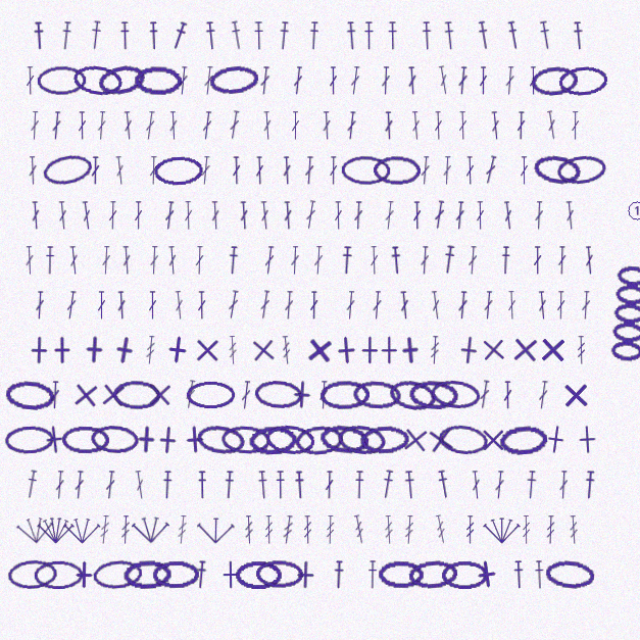chain: (47, 159, 99, 196), (101, 71, 152, 108), (386, 380, 437, 416), (77, 72, 129, 107), (528, 160, 578, 195), (198, 425, 249, 459), (551, 161, 602, 194), (266, 425, 317, 458), (435, 425, 486, 458), (211, 73, 261, 106), (428, 381, 478, 414), (319, 425, 369, 458), (336, 425, 386, 458), (553, 74, 604, 106), (11, 382, 61, 414), (295, 426, 345, 458), (97, 558, 147, 590), (406, 558, 456, 590), (540, 558, 590, 590), (526, 74, 575, 106), (495, 426, 544, 458), (255, 382, 304, 413), (407, 382, 456, 413), (14, 558, 63, 589), (157, 163, 207, 193), (11, 427, 61, 457), (95, 426, 143, 457), (352, 383, 401, 413), (223, 427, 272, 457), (359, 427, 408, 457), (250, 427, 298, 457), (43, 75, 92, 104), (341, 163, 390, 192), (320, 383, 369, 412), (127, 559, 175, 588), (257, 559, 305, 588), (189, 384, 238, 412), (40, 560, 89, 588), (138, 75, 185, 104), (372, 163, 419, 192), (117, 383, 164, 412), (67, 428, 115, 456), (156, 560, 203, 588), (237, 560, 284, 588), (439, 560, 486, 588), (377, 560, 423, 588)
double: (480, 163, 495, 192), (435, 75, 448, 104), (230, 119, 243, 148), (541, 119, 554, 148), (305, 207, 318, 236), (431, 207, 444, 236), (229, 295, 242, 324), (260, 295, 273, 324), (187, 383, 200, 412), (475, 383, 488, 412), (293, 76, 305, 104), (349, 76, 361, 104), (148, 120, 160, 148), (204, 120, 216, 148), (86, 208, 98, 236), (167, 208, 179, 236), (499, 208, 511, 236), (265, 252, 277, 280), (71, 296, 83, 324), (428, 296, 440, 324), (242, 384, 254, 412), (533, 384, 545, 412), (109, 472, 121, 500), (138, 472, 150, 500), (181, 76, 192, 104), (206, 76, 217, 104), (261, 76, 272, 104), (455, 76, 466, 104), (501, 76, 512, 104), (57, 120, 68, 148), (101, 120, 112, 148), (127, 120, 138, 148), (346, 120, 357, 148), (409, 120, 420, 148), (487, 120, 498, 148), (119, 164, 130, 192), (203, 164, 214, 192), (418, 164, 429, 192), (63, 208, 74, 236), (261, 208, 272, 236), (383, 208, 394, 236), (452, 208, 463, 236), (560, 208, 571, 236), (74, 252, 85, 280), (579, 252, 590, 280), (177, 296, 188, 324), (345, 296, 356, 324), (371, 296, 382, 324), (398, 296, 409, 324), (455, 296, 466, 324), (480, 296, 491, 324), (533, 296, 544, 324), (60, 472, 71, 500), (79, 472, 90, 500), (468, 472, 479, 500), (491, 472, 502, 500), (380, 76, 390, 104), (406, 76, 416, 104), (36, 120, 46, 148), (172, 120, 182, 148), (264, 120, 274, 148), (322, 120, 332, 148), (383, 120, 393, 148), (34, 164, 44, 192), (283, 164, 293, 192), (305, 164, 315, 192), (440, 164, 450, 192), (37, 208, 47, 236), (213, 208, 223, 236), (241, 208, 251, 236), (284, 208, 294, 236), (353, 208, 363, 236), (530, 208, 540, 236), (31, 252, 41, 280), (106, 252, 116, 280), (126, 252, 136, 280), (153, 252, 163, 280), (171, 252, 181, 280), (291, 252, 301, 280), (314, 252, 324, 280), (418, 252, 428, 280), (465, 252, 475, 280), (41, 296, 51, 324), (121, 296, 131, 324), (285, 296, 295, 324), (576, 296, 586, 324), (56, 384, 66, 412), (319, 384, 329, 412), (554, 472, 564, 500), (32, 76, 41, 104), (329, 76, 338, 104), (476, 76, 485, 104), (525, 76, 534, 104), (83, 120, 92, 148), (292, 120, 301, 148), (432, 120, 441, 148), (456, 120, 465, 148), (513, 120, 522, 148), (566, 120, 575, 148), (96, 164, 105, 192), (153, 164, 162, 192), (234, 164, 243, 192), (257, 164, 266, 192), (329, 164, 338, 192), (463, 164, 472, 192), (516, 164, 525, 192), (113, 208, 122, 236), (138, 208, 147, 236), (187, 208, 196, 236), (334, 208, 343, 236), (411, 208, 420, 236), (473, 208, 482, 236), (198, 252, 207, 280), (369, 252, 378, 280), (529, 252, 538, 280), (553, 252, 562, 280), (102, 296, 111, 324), (152, 296, 161, 324), (200, 296, 209, 324), (310, 296, 319, 324), (504, 296, 513, 324), (552, 296, 561, 324), (500, 384, 509, 412), (325, 472, 334, 500)
enseble_chain: (602, 270, 640, 369)
fan: (22, 514, 61, 545), (136, 515, 173, 544), (43, 516, 80, 544), (69, 516, 106, 544), (200, 516, 237, 544), (480, 516, 517, 544)
half_double: (173, 31, 192, 61), (534, 31, 549, 60), (379, 471, 394, 500), (434, 471, 449, 500), (94, 31, 108, 60), (232, 31, 246, 60), (474, 31, 488, 60), (503, 31, 517, 60), (440, 251, 454, 280), (31, 471, 45, 500), (207, 32, 220, 60), (345, 32, 358, 60), (441, 32, 454, 60), (567, 32, 580, 60), (229, 252, 242, 280), (258, 472, 271, 500), (402, 472, 415, 500), (521, 472, 534, 500), (578, 472, 591, 500), (39, 32, 51, 60), (66, 32, 78, 60), (279, 32, 291, 60), (419, 32, 431, 60), (341, 252, 353, 280), (389, 252, 401, 280), (165, 472, 177, 500), (198, 560, 210, 588), (333, 560, 345, 588), (509, 560, 521, 588), (124, 32, 135, 60), (152, 32, 163, 60), (255, 32, 266, 60), (309, 32, 320, 60), (363, 32, 374, 60), (386, 32, 397, 60), (497, 252, 508, 280), (226, 472, 237, 500), (276, 472, 287, 500), (295, 472, 306, 500), (530, 560, 541, 588), (51, 252, 61, 280), (200, 472, 210, 500), (354, 472, 364, 500), (367, 560, 377, 588)
noise: (620, 206, 640, 229)
single: (113, 338, 145, 370), (423, 426, 455, 458), (165, 338, 196, 369), (45, 426, 76, 457), (536, 426, 567, 457), (468, 558, 499, 589), (250, 339, 280, 369), (305, 339, 335, 369), (331, 339, 361, 369), (394, 339, 424, 369), (451, 339, 481, 369), (76, 383, 106, 413), (103, 383, 133, 413), (156, 427, 186, 457), (399, 427, 429, 457), (85, 339, 114, 368), (476, 339, 505, 368), (507, 339, 536, 368), (534, 339, 563, 368), (149, 383, 178, 412), (288, 383, 317, 412), (136, 427, 165, 456), (183, 427, 212, 456), (568, 427, 597, 456), (31, 340, 59, 368), (54, 340, 82, 368), (196, 340, 224, 368), (355, 340, 383, 368), (374, 340, 402, 368), (557, 384, 585, 412), (476, 428, 504, 456), (75, 560, 103, 588), (219, 560, 247, 588), (292, 560, 320, 588)
treble: (352, 515, 366, 544), (432, 515, 446, 544), (283, 516, 295, 544), (149, 340, 160, 368), (282, 340, 293, 368), (104, 516, 115, 544), (180, 516, 191, 544), (230, 340, 240, 368), (428, 340, 438, 368), (125, 516, 135, 544), (246, 516, 256, 544), (383, 516, 393, 544), (403, 516, 413, 544), (564, 516, 574, 544), (572, 340, 581, 368), (266, 516, 275, 544), (304, 516, 313, 544), (326, 516, 335, 544), (463, 516, 472, 544), (518, 516, 527, 544), (542, 516, 551, 544)
